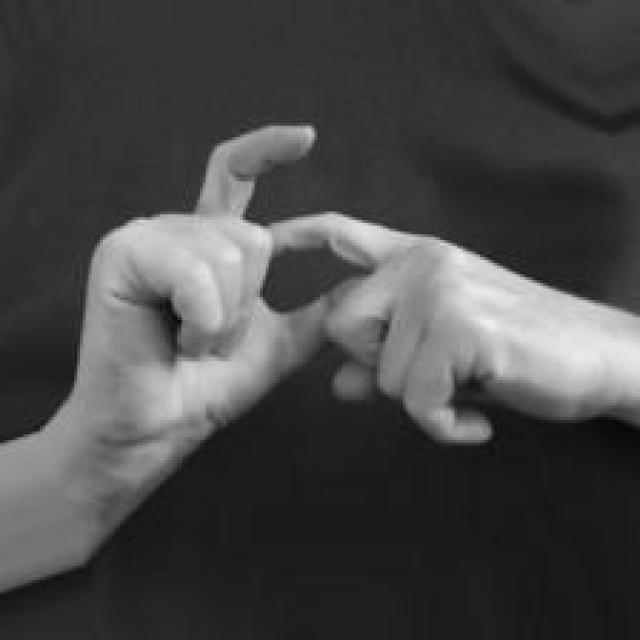G: (71, 119, 640, 566)
